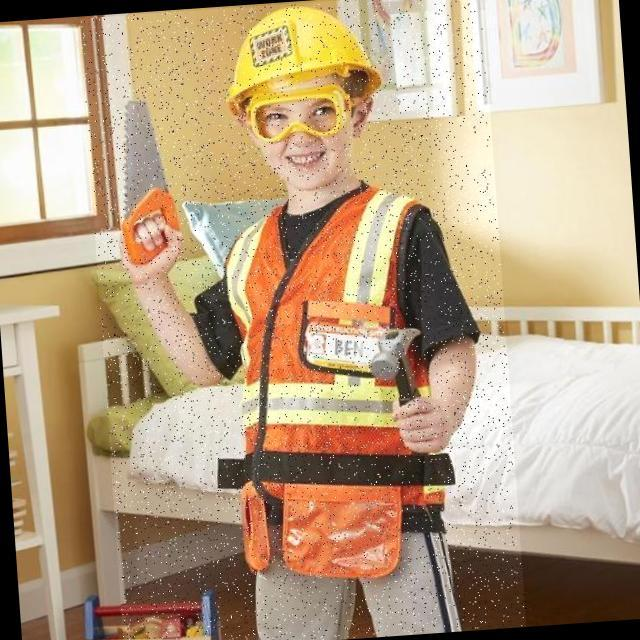Helmet: (219, 0, 391, 120)
Person: (76, 0, 505, 640)
Safety Vest: (221, 186, 455, 584)
bare-arms: (101, 210, 199, 288), (383, 382, 464, 469)
